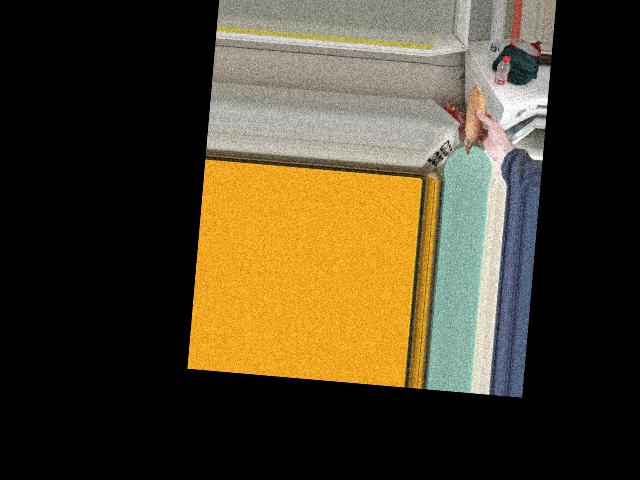sweet_potato: (461, 89, 490, 157)
